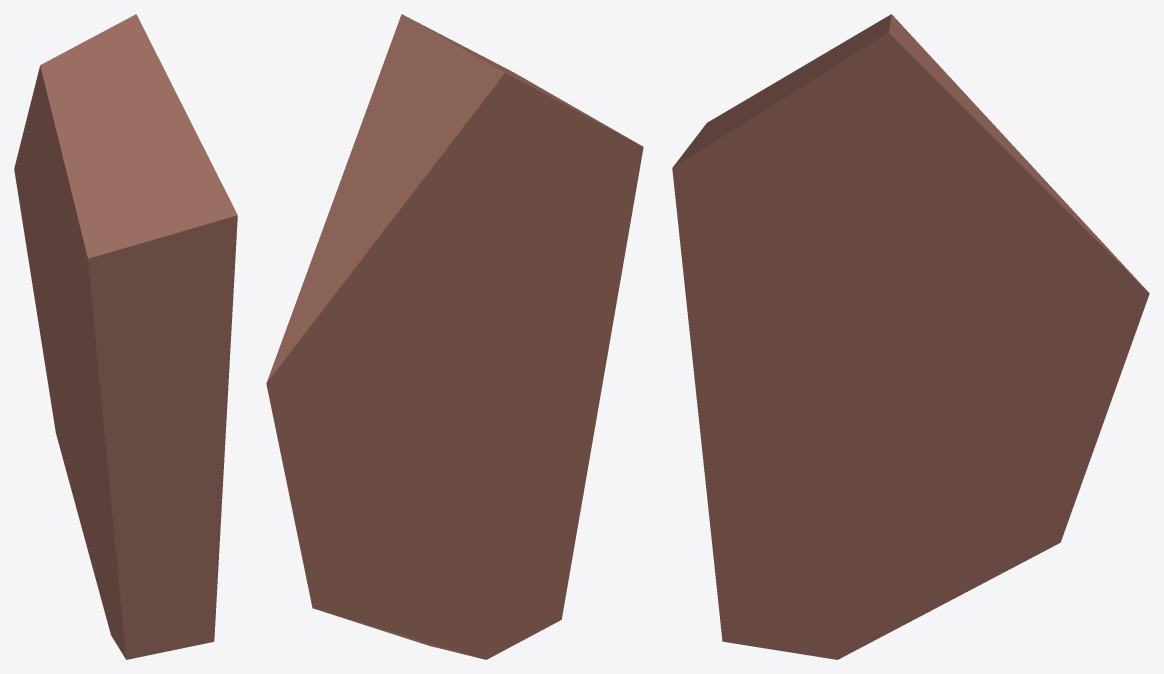
File: T_MurDetruit_7.5.fbx
3 renders of one model, left to right at view 1: azimuth 30°, elevation 25°; view 2: azimuth 150°, elevation 25°; view 3: azimuth 270°, elevation 25°, orthographic. The views are drawn at different scales.
Visible parts, largest first — view 1: T_MurDetruit_7.5; view 2: T_MurDetruit_7.5; view 3: T_MurDetruit_7.5.
Boxes of the visible parts, x1,y1,x2,y2 form: T_MurDetruit_7.5: [14, 14, 237, 659]; T_MurDetruit_7.5: [266, 14, 643, 659]; T_MurDetruit_7.5: [672, 14, 1149, 659].
Bounding box in the file's own units: 13.36 × 56.41 × 38.76.
